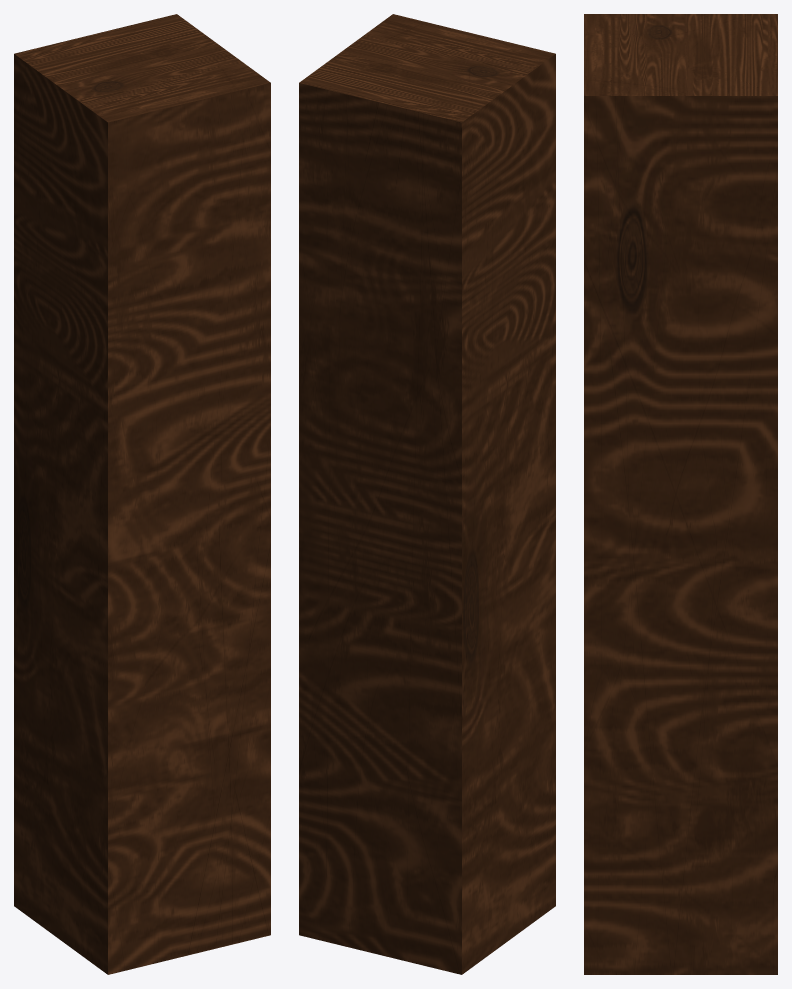
The model's file is wall_point.fbx.
The picture shows the model from 3 angles, left to right: view 1: azimuth 30°, elevation 25°; view 2: azimuth 150°, elevation 25°; view 3: azimuth 270°, elevation 25°; orthographic projection. The views are drawn at different scales.
Parts seen in each view (by area): view 1: Cube; view 2: Cube; view 3: Cube.
Part boxes in pixels (x1=…): Cube: x1=14, y1=14, x2=270, y2=974; Cube: x1=299, y1=14, x2=555, y2=974; Cube: x1=584, y1=14, x2=777, y2=974.
Size of the model in its own units: 40 by 200 by 40.
Materials: 1 (1 with a texture image).
